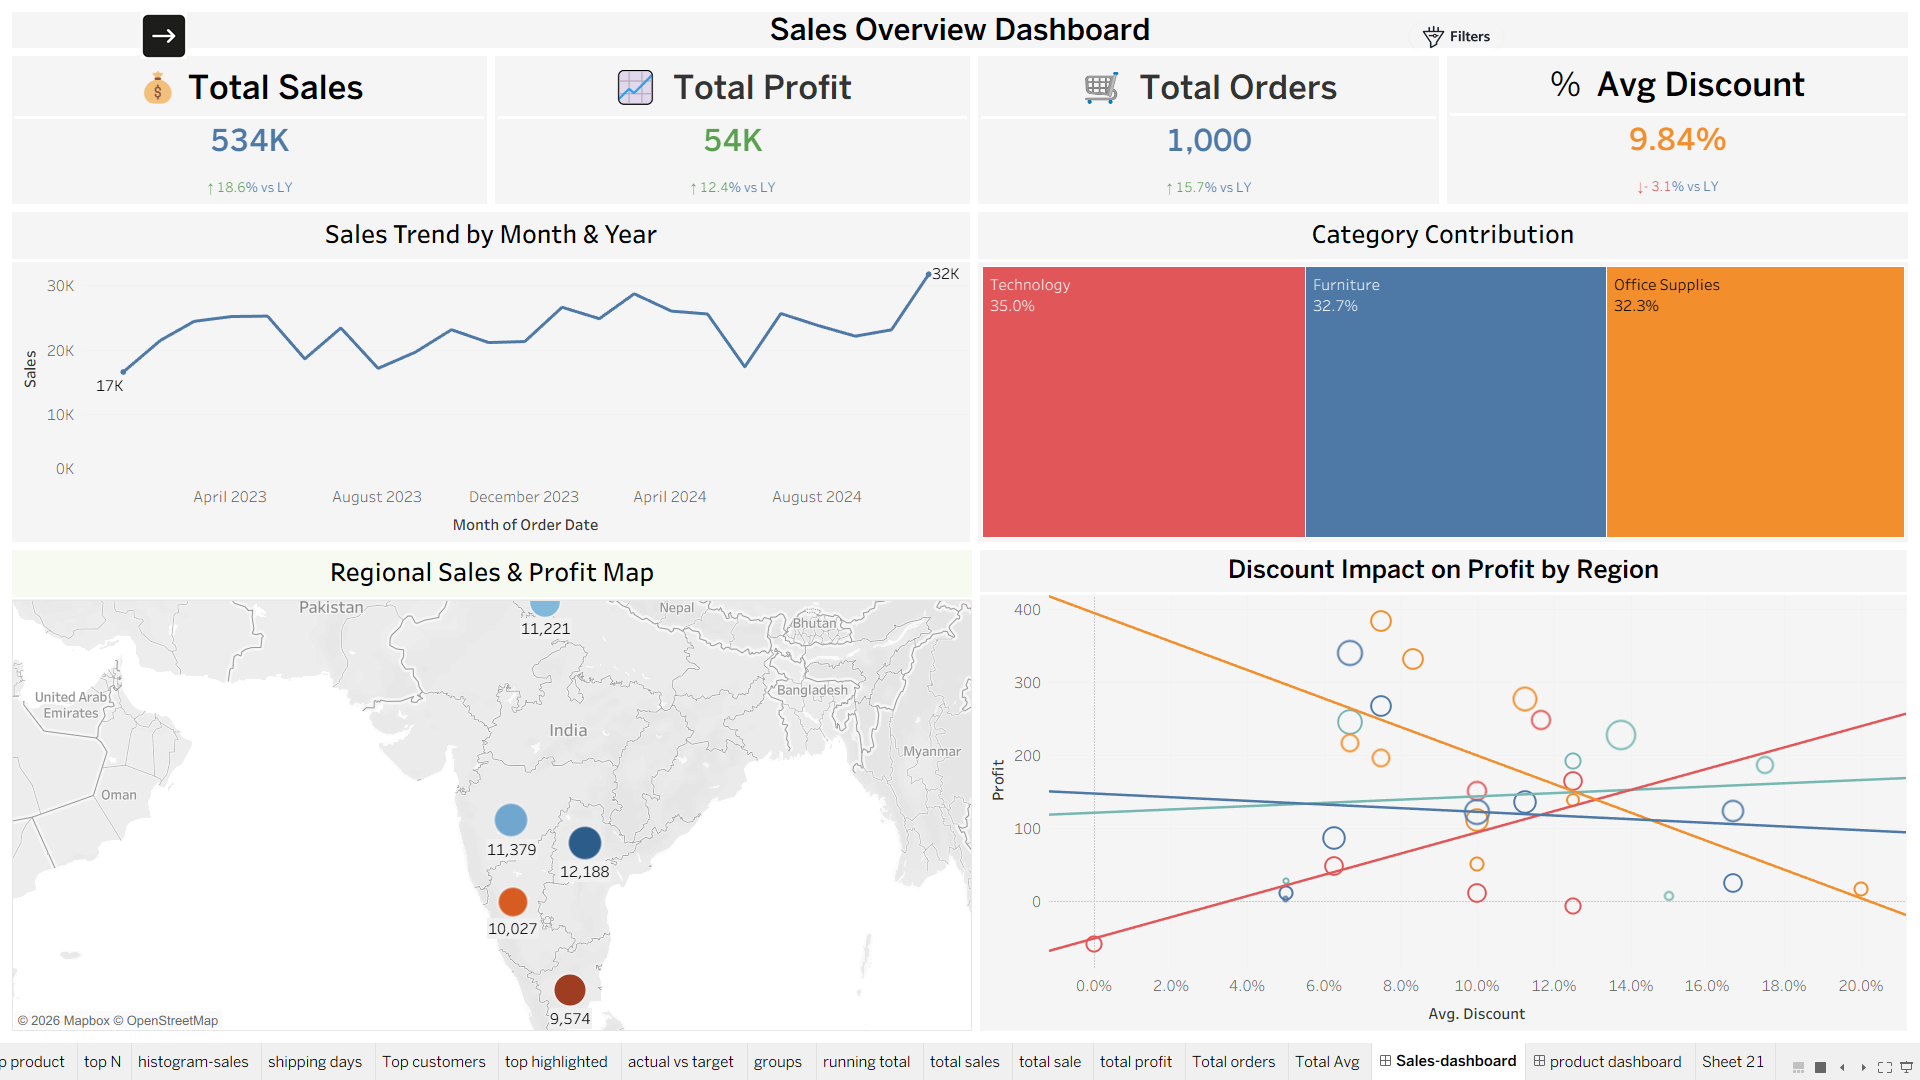

What the dashboard file says about the page in this screenshot:
{"tool":"tableau","page":{"name":"Sales-dashboard","canvas":[1000,1000],"units":"permille","ordinal":0},"visuals":[{"type":"text","box":[4.8,9.4,990.3,51.7]},{"type":"filter","title":"category ","param":"[federated.1tuaz430wy4qnb13nni5a02m9ilp].[none:Category:nk]","box":[898.6,9.4,96.6,150.4]},{"type":"dashboard-object","box":[13.3,11.8,143.6,44.6]},{"type":"worksheet","title":"total sale","mark":"Automatic","box":[4.8,61.1,251.3,183.3]},{"type":"worksheet","title":"total profit","mark":"Automatic","box":[256.1,61.1,251.3,183.3]},{"type":"worksheet","title":"Total orders","mark":"Automatic","box":[507.4,61.1,243.9,183.3]},{"type":"worksheet","title":"Total Avg","mark":"Automatic","box":[751.3,61.1,243.9,183.3]},{"type":"legend","title":"category ","param":"[federated.1tuaz430wy4qnb13nni5a02m9ilp].[none:Category:nk]","box":[898.6,159.8,96.6,109.3]},{"type":"worksheet","title":"sales trends","mark":"Line","rows":["Sales"],"cols":["Order_Date"],"box":[4.8,244.4,502.5,397.2]},{"type":"worksheet","title":"category ","mark":"Automatic","box":[507.3,244.4,487.9,397.2]},{"type":"filter","title":"regional map","param":"[federated.1tuaz430wy4qnb13nni5a02m9ilp].[none:Region:nk]","box":[898.6,269.1,96.6,71.7]},{"type":"filter","title":"sales trends","param":"[federated.1tuaz430wy4qnb13nni5a02m9ilp].[yr:Order_Date:ok]","box":[898.6,340.8,96.6,123.4]},{"type":"worksheet","title":"regional map","mark":"Automatic","box":[4.8,641.6,505.4,349]},{"type":"worksheet","title":"discount vs profit","mark":"Automatic","rows":["Profit"],"cols":["Discount"],"box":[510.3,641.6,484.9,349]}]}

Visuals, with their boxes on the dashboard's canvas, which has no fixed pixel size, in thousandths of its width and height (x1, y1, x2, y2). These are canvas units, not pixel positions in the 1920x1080 screenshot, which may show the page scaled, cropped or inside an application window:
text: <box>5,9,995,61</box>
"category " filter: <box>899,9,995,160</box>
dashboard-object: <box>13,12,157,56</box>
"total sale" worksheet: <box>5,61,256,244</box>
"total profit" worksheet: <box>256,61,507,244</box>
"Total orders" worksheet: <box>507,61,751,244</box>
"Total Avg" worksheet: <box>751,61,995,244</box>
"category " legend: <box>899,160,995,269</box>
"sales trends" worksheet (Line marks): <box>5,244,507,642</box>
"category " worksheet: <box>507,244,995,642</box>
"regional map" filter: <box>899,269,995,341</box>
"sales trends" filter: <box>899,341,995,464</box>
"regional map" worksheet: <box>5,642,510,991</box>
"discount vs profit" worksheet: <box>510,642,995,991</box>
